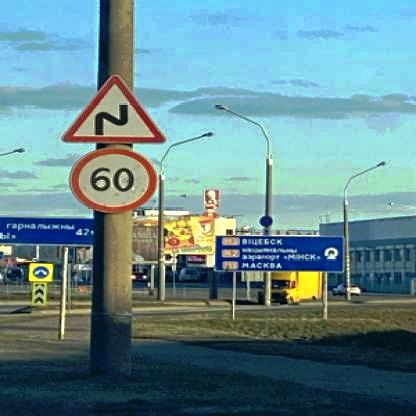Speed Limit -60-: (70, 144, 162, 216)
